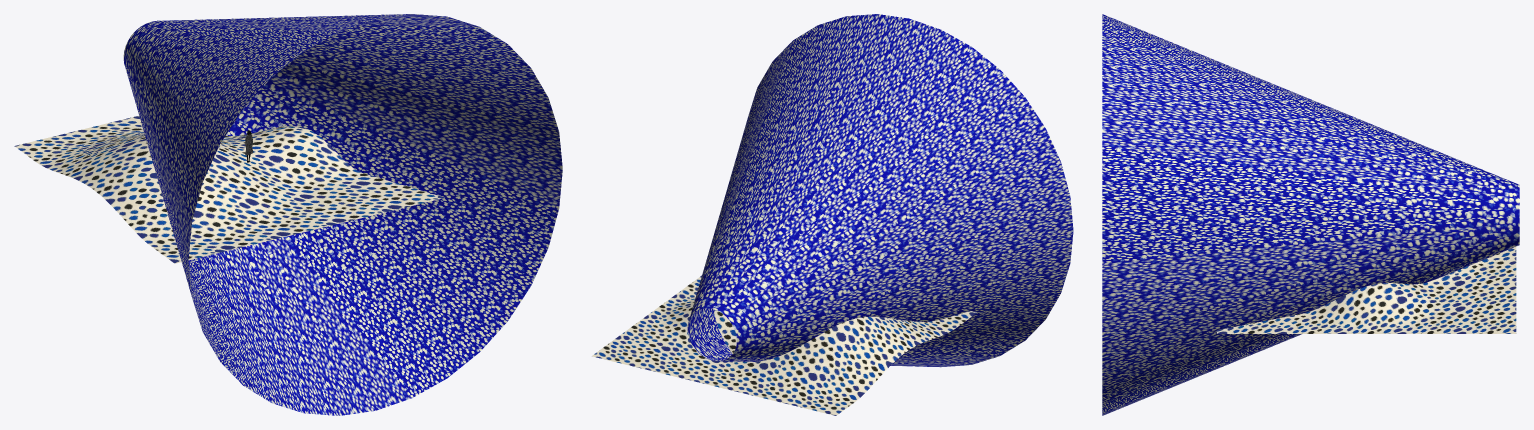
File: SceneWoman.glb
3 renders of one model, left to right at view 1: azimuth 30°, elevation 25°; view 2: azimuth 150°, elevation 25°; view 3: azimuth 270°, elevation 25°, orthographic. The views are drawn at different scales.
Visible parts, largest first — view 1: Cylinder, Plane; view 2: Cylinder, Plane; view 3: Cylinder, Plane.
Boxes of the visible parts, x1,y1,x2,y2 form: Cylinder: [123, 14, 562, 415]; Plane: [14, 115, 444, 263]; Cylinder: [687, 14, 1073, 367]; Plane: [592, 275, 976, 415]; Cylinder: [1102, 14, 1519, 415]; Plane: [1217, 247, 1516, 333].
Bounding box in the file's own units: 15.02 × 15.02 × 15.57.
Materials: 4 (3 with a texture image).
